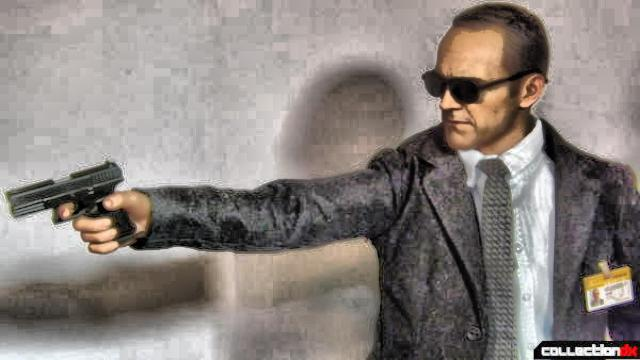pistol: (0, 158, 134, 250)
